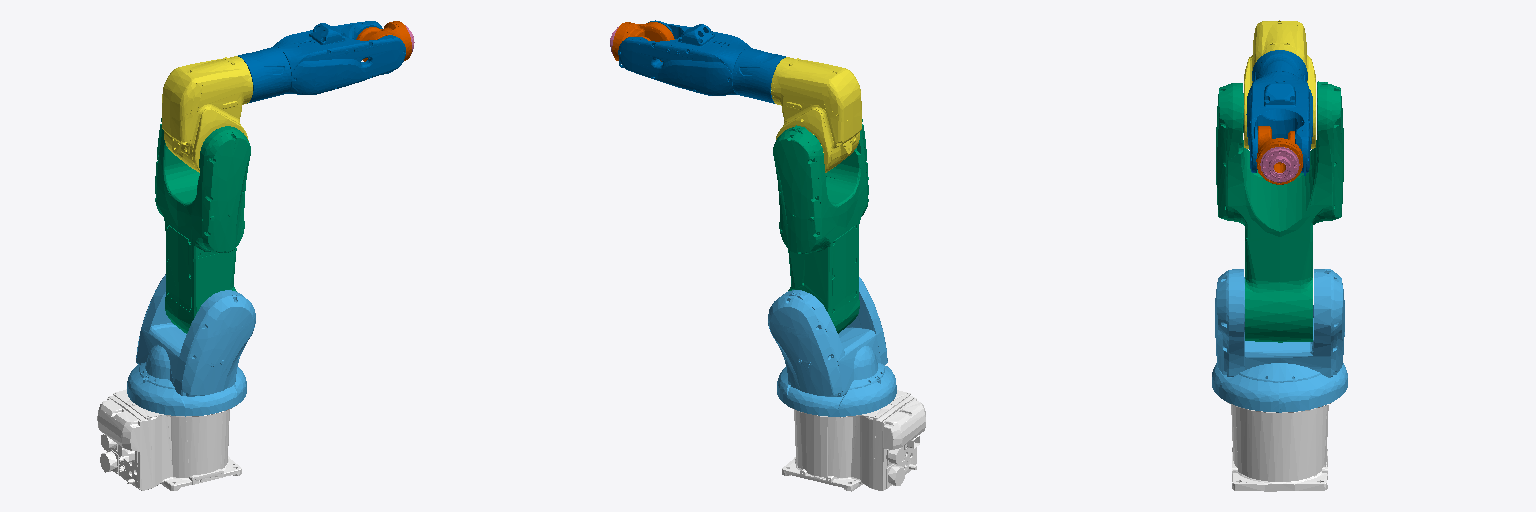
URDF robot description (CMZ05):
?<?xml version="1.0"?>  <!-- xmlコードを認識してくれる -->
<robot name="CMZ05">
    <material name="silver">
        <texture />
        <color rgba="0.9 0.9 0.9 1" />
    </material>
    <material name="white">
        <texture />
		<color rgba="1.0 1.0 1.0 1.0" />
	</material>
	<material name="black">
		<color rgba="0.0 0.0 0.0 1.0" />
	</material>
    <link name="base_link">
		<inertial>
			<mass value="1.0" />
			<inertia ixx="1.0" ixy="0.0" ixz="0.0" iyy="1.0" iyz="0.0" izz="1.0" />
			<origin xyz="0.0 0.0 0.0" />
		</inertial>
        <visual>
            <origin xyz="0 0 0" rpy="0 -0 0" />
            <geometry>
                <mesh filename="../meshes/link_base.stl" scale="1 1 1" />
            </geometry>
            <material name="white" />
        </visual>
        <collision>
            <origin xyz="0 0 0" rpy="0 -0 0" />
            <geometry>
                <mesh filename="../meshes/link_base.stl" scale="1 1 1" />
            </geometry>
        </collision>
    </link>
    <link name="link_j1">
		<inertial>
			<mass value="1.0" />
			<inertia ixx="1.0" ixy="0.0" ixz="0.0" iyy="1.0" iyz="0.0" izz="1.0" />
			<origin xyz="0.0 0.0 0.0" />
		</inertial>
        <visual>
            <origin xyz="0 0 -0.1866" rpy="0 -0 0" />
            <geometry>
                <mesh filename="../meshes/link_j1.stl" scale="1 1 1" />
            </geometry>
        </visual>
        <collision>
            <origin xyz="0 0 -0.1866" rpy="0 -0 0" />
            <geometry>
                <mesh filename="../meshes/link_j1.stl" scale="1 1 1" />
            </geometry>
        </collision>
    </link>
    <link name="link_j2">
		<inertial>
			<mass value="1.0" />
			<inertia ixx="1.0" ixy="0.0" ixz="0.0" iyy="1.0" iyz="0.0" izz="1.0" />
			<origin xyz="0.0 0.0 0.0" />
		</inertial>
        <visual>
            <origin xyz="-0.05 -0.07848 -0.385" rpy="0 -0 0" />
            <geometry>
                <mesh filename="../meshes/link_j2.stl" scale="1 1 1" />
            </geometry>
        </visual>
        <collision>
            <origin xyz="-0.05 -0.07848 -0.385" rpy="0 -0 0" />
            <geometry>
                <mesh filename="../meshes/link_j2.stl" scale="1 1 1" />
            </geometry>
        </collision>
    </link>
    <link name="link_j3">
		<inertial>
			<mass value="1.0" />
			<inertia ixx="1.0" ixy="0.0" ixz="0.0" iyy="1.0" iyz="0.0" izz="1.0" />
			<origin xyz="0.0 0.0 0.0" />
		</inertial>
        <visual>
            <origin xyz="-0.05 -0.06735 -0.805" rpy="0 0 0" />
            <geometry>
                <mesh filename="../meshes/link_j3.stl" scale="1 1 1" />
            </geometry>
        </visual>
        <collision>
            <origin xyz="-0.05 -0.06735 -0.805" rpy="0 0 0" />
            <geometry>
                <mesh filename="../meshes/link_j3.stl" scale="1 1 1" />
            </geometry>
        </collision>
    </link>
    <link name="link_j4">
		<inertial>
			<mass value="1.0" />
			<inertia ixx="1.0" ixy="0.0" ixz="0.0" iyy="1.0" iyz="0.0" izz="1.0" />
			<origin xyz="0.0 0.0 0.0" />
		</inertial>
        <visual>
            <origin xyz="-0.1285 0 -0.93" rpy="0 0 0" />
            <geometry>
                <mesh filename="../meshes/link_j4.stl" scale="1 1 1" />
            </geometry>
        </visual>
        <collision>
            <origin xyz="-0.1285 0 -0.93" rpy="0 0 0" />
            <geometry>
                <mesh filename="../meshes/link_j4.stl" scale="1 1 1" />
            </geometry>
        </collision>
    </link>
    <link name="link_j5">
		<inertial>
			<mass value="1.0" />
			<inertia ixx="1.0" ixy="0.0" ixz="0.0" iyy="1.0" iyz="0.0" izz="1.0" />
			<origin xyz="0.0 0.0 0.0" />
		</inertial>
        <visual>
            <origin xyz="-0.49 0.031 -0.93" rpy="0 0 0" />
            <geometry>
                <mesh filename="../meshes/link_j5.stl" scale="1 1 1" />
            </geometry>
        </visual>
        <collision>
            <origin xyz="-0.49 0.031 -0.93" rpy="0 0 0" />
            <geometry>
                <mesh filename="../meshes/link_j5.stl" scale="1 1 1" />
            </geometry>
        </collision>
    </link>
    <link name="link_j6">
		<inertial>
			<mass value="1.0" />
			<inertia ixx="1.0" ixy="0.0" ixz="0.0" iyy="1.0" iyz="0.0" izz="1.0" />
			<origin xyz="0.0 0.0 0.0" />
		</inertial>
        <visual>
            <origin xyz="-0.549 0 -0.93" rpy="0 0 0" />
            <geometry>
                <mesh filename="../meshes/link_j6.stl" scale="1 1 1" />
            </geometry>
        </visual>
        <collision>
            <origin xyz="-0.549 0 -0.93" rpy="0 0 0" />
            <geometry>
                <mesh filename="../meshes/link_j6.stl" scale="1 1 1" />
            </geometry>
        </collision>
    </link>
    <joint name="joint_J1" type="revolute">
        <origin xyz="0 0 0.1866" rpy="0 -0 0" />
        <axis xyz="0 0 1" />
        <parent link="base_link" />
        <child link="link_j1" />
        <limit effort="100" velocity="7.85" lower="-2.96706" upper="2.96706" />
    </joint>
    <joint name="joint_J2" type="revolute">
        <origin xyz="0.05 0.07848 0.1984" rpy="0 -0 0" />
        <axis xyz="0 -1 0" />
        <parent link="link_j1" />
        <child link="link_j2" />
        <limit effort="100" velocity="6.63" lower="-0.785398" upper="2.96706" />
    </joint>
    <joint name="joint_J3" type="revolute">
        <origin xyz="0 -0.01113 0.42" rpy="0 -0 0" />
        <axis xyz="0 -1 0" />
        <parent link="link_j2" />
        <child link="link_j3" />
        <limit effort="100" velocity="9.08" lower="-1.169371" upper="3.316126" />
    </joint>
    <joint name="joint_J4" type="revolute">
        <origin xyz="0.0785 -0.06735 0.125" rpy="0 0 0" />
        <axis xyz="1 0 0" />
        <parent link="link_j3" />
        <child link="link_j4" />
        <limit effort="100" velocity="9.6" lower="-3.316126" upper="3.316126" />
    </joint>
    <joint name="joint_J5" type="revolute">
        <origin xyz="0.3615 -0.031 0" rpy="0 -0 0" />
        <axis xyz="0 -1 0" />
        <parent link="link_j4" />
        <child link="link_j5" />
        <limit effort="100" velocity="9.6" lower="-2.094395" upper="2.094395" />
    </joint>
    <joint name="joint_J6" type="revolute">
        <origin xyz="0.059 0.031 0" rpy="0 -0 0" />
        <axis xyz="1 0 0" />
        <parent link="link_j5" />
        <child link="link_j6" />
        <limit effort="100" velocity="17.5" lower="-6.497861" upper="6.497861" />
    </joint>
</robot>

--- What the picture shows (computed from the rendered views, not written in the file) ---
Views: 3 orthographic renders of the robot side by side, from view 1: azimuth 30°, elevation 25°; view 2: azimuth 150°, elevation 25°; view 3: azimuth 270°, elevation 25°.
Robot: CMZ05 — 7 links, 6 joints (6 revolute); root link base_link; default pose: all joints at 0.
Visible links, largest first — view 1: link_j2, link_j1, base_link, link_j4, link_j3, link_j5; view 2: link_j2, link_j1, base_link, link_j4, link_j3, link_j5; view 3: link_j2, link_j1, base_link, link_j4, link_j3, link_j5, link_j6.
Link boxes in pixels (x1=…): link_j2: x1=155, y1=118, x2=250, y2=333; link_j1: x1=127, y1=274, x2=255, y2=416; base_link: x1=97, y1=389, x2=241, y2=490; link_j4: x1=238, y1=21, x2=405, y2=103; link_j3: x1=162, y1=56, x2=252, y2=172; link_j5: x1=356, y1=21, x2=411, y2=61; link_j2: x1=773, y1=119, x2=868, y2=333; link_j1: x1=768, y1=277, x2=896, y2=416; base_link: x1=782, y1=390, x2=925, y2=491; link_j4: x1=618, y1=20, x2=785, y2=103; link_j3: x1=771, y1=57, x2=861, y2=172; link_j5: x1=612, y1=22, x2=674, y2=61; link_j2: x1=1216, y1=81, x2=1343, y2=342; link_j1: x1=1212, y1=269, x2=1347, y2=412; base_link: x1=1227, y1=402, x2=1330, y2=491; link_j4: x1=1246, y1=50, x2=1312, y2=175; link_j3: x1=1244, y1=20, x2=1315, y2=148; link_j5: x1=1256, y1=126, x2=1302, y2=184; link_j6: x1=1260, y1=147, x2=1299, y2=182.
Bounding box of the posed robot: 0.7796 × 0.2699 × 1.01 m (x, y, z).
Meshes: 7 distinct files referenced, 7 mesh visuals loaded (7 binary STL).
